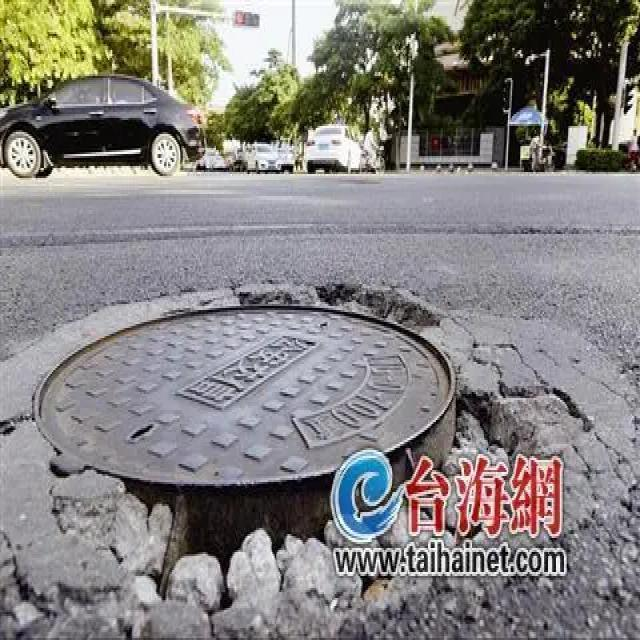manhole: (35, 306, 455, 554)
